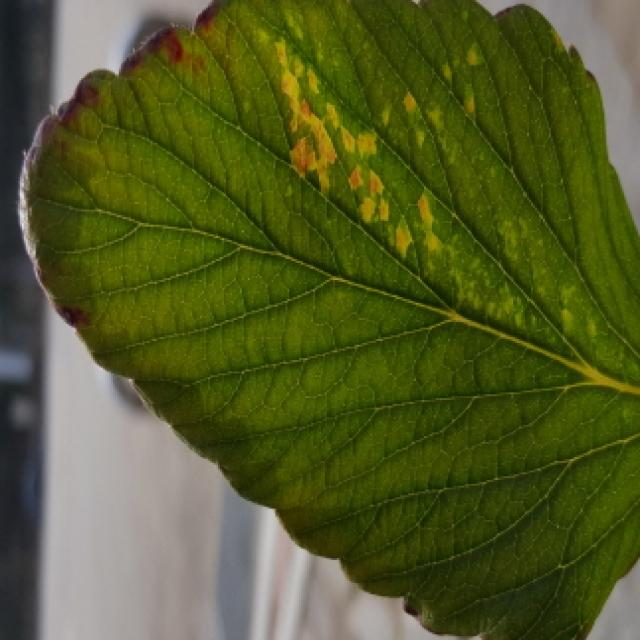Angular Leafspot: (230, 6, 626, 370)
